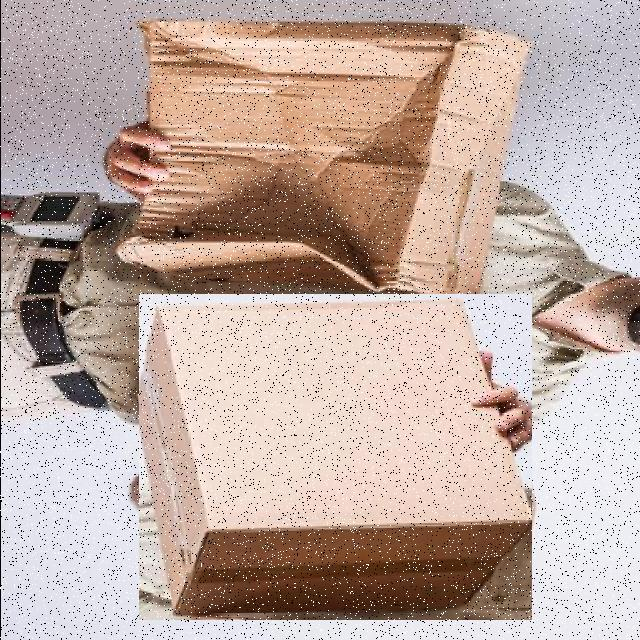defect: (117, 17, 531, 305)
normal: (138, 294, 531, 620)
